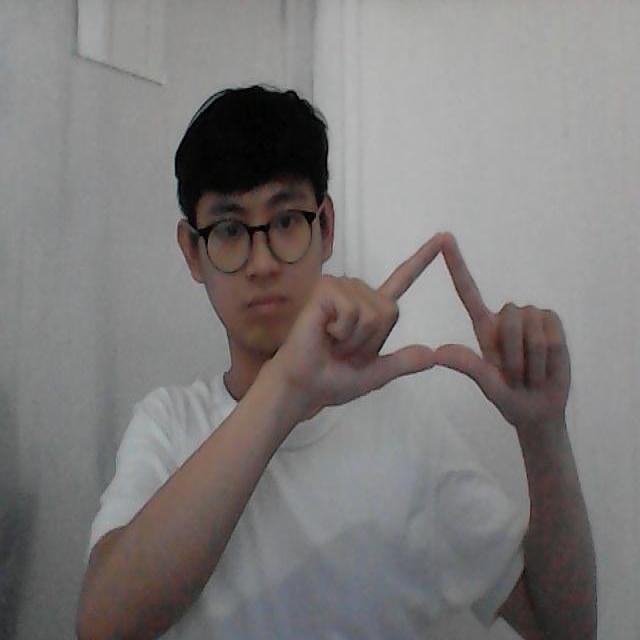A: (287, 220, 582, 429)
